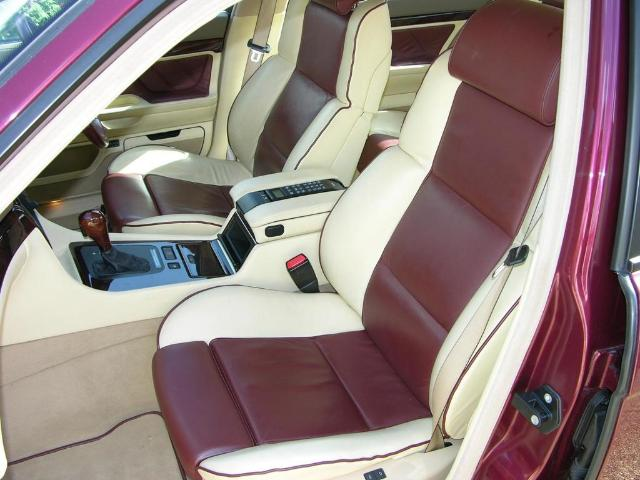Seatbelt: (420, 177, 552, 455), (225, 0, 277, 158)
